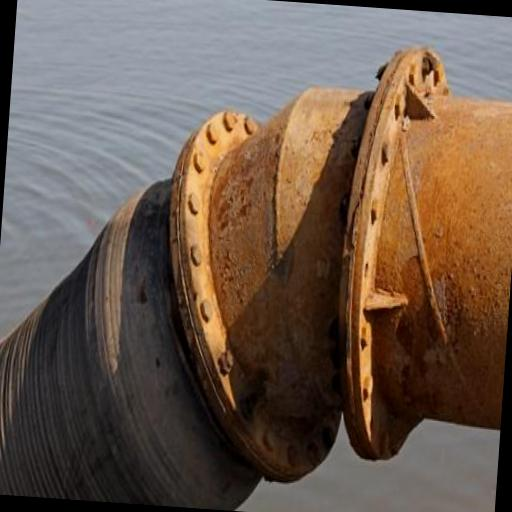corrosion: (0, 104, 353, 512), (156, 91, 307, 482)
